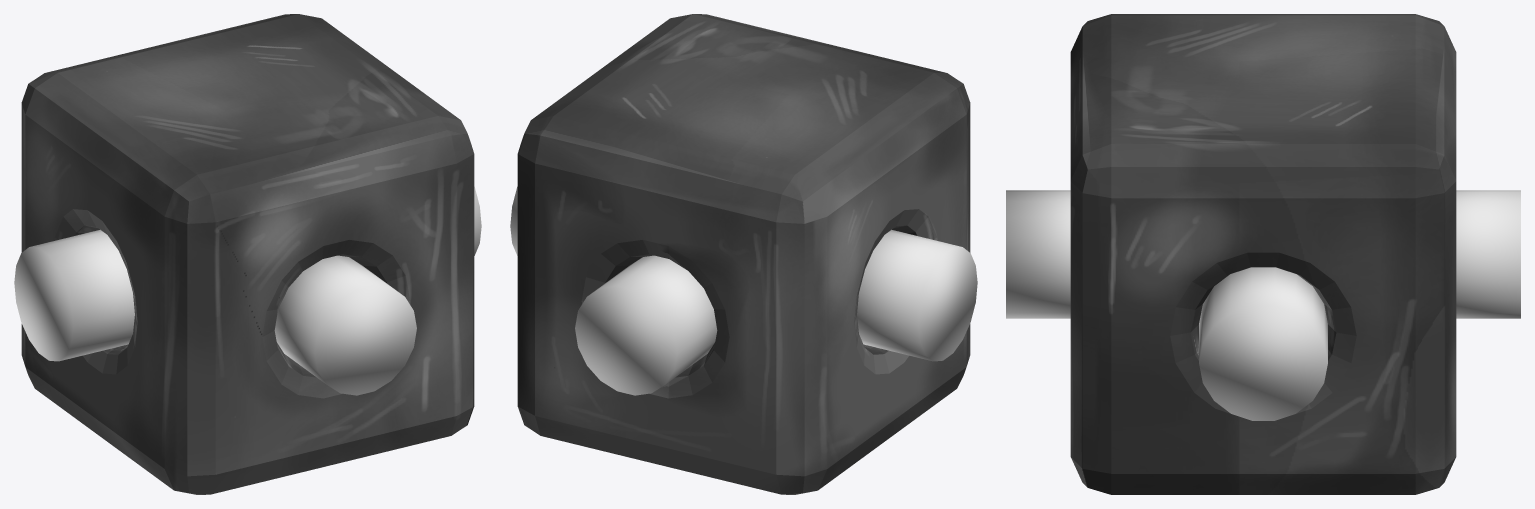
File: bloc.glb
The picture shows the model from 3 angles, left to right: view 1: azimuth 30°, elevation 25°; view 2: azimuth 150°, elevation 25°; view 3: azimuth 270°, elevation 25°; orthographic projection. The views are drawn at different scales.
Parts seen in each view (by area): view 1: Cube, Cylinder.001; view 2: Cube, Cylinder.001; view 3: Cube, Cylinder.001.
Part boxes in pixels (<box>): Cube: <box>21,14,474,494</box>; Cylinder.001: <box>14,186,481,395</box>; Cube: <box>517,14,970,494</box>; Cylinder.001: <box>510,186,977,395</box>; Cube: <box>1070,14,1456,494</box>; Cylinder.001: <box>1006,190,1520,420</box>.
Size of the model in its own units: 1.33 by 1 by 1.33.
Materials: 2 (1 with a texture image).
